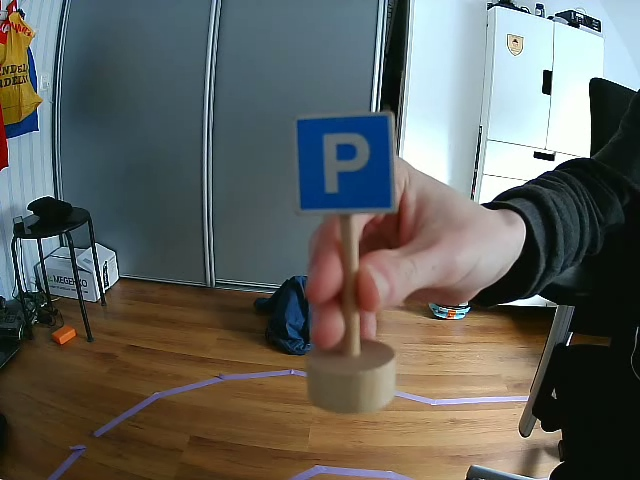parkeerbord: (294, 111, 395, 215)
